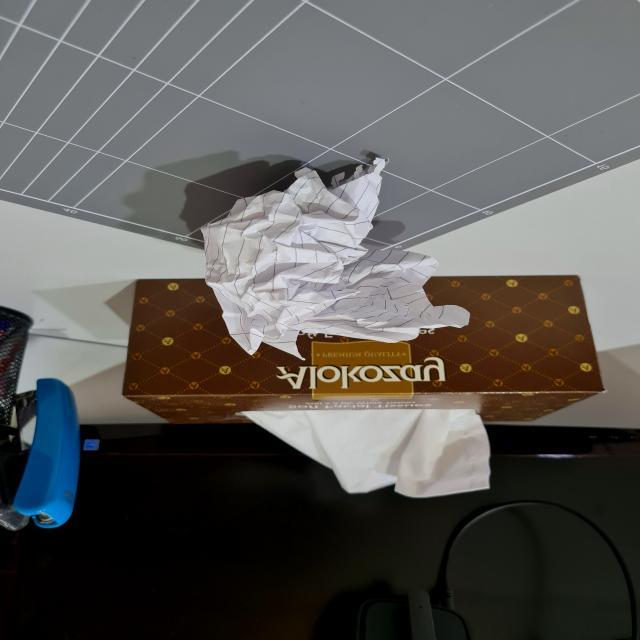Paper: (183, 159, 454, 356)
